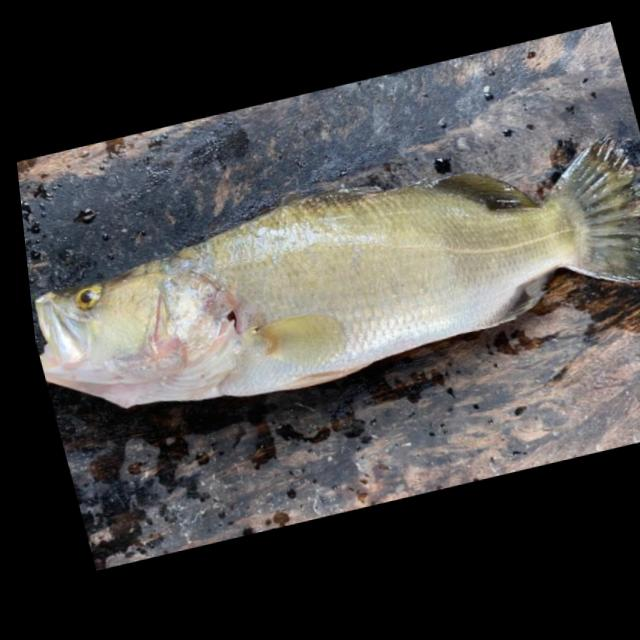Seabass: (17, 120, 640, 447)
